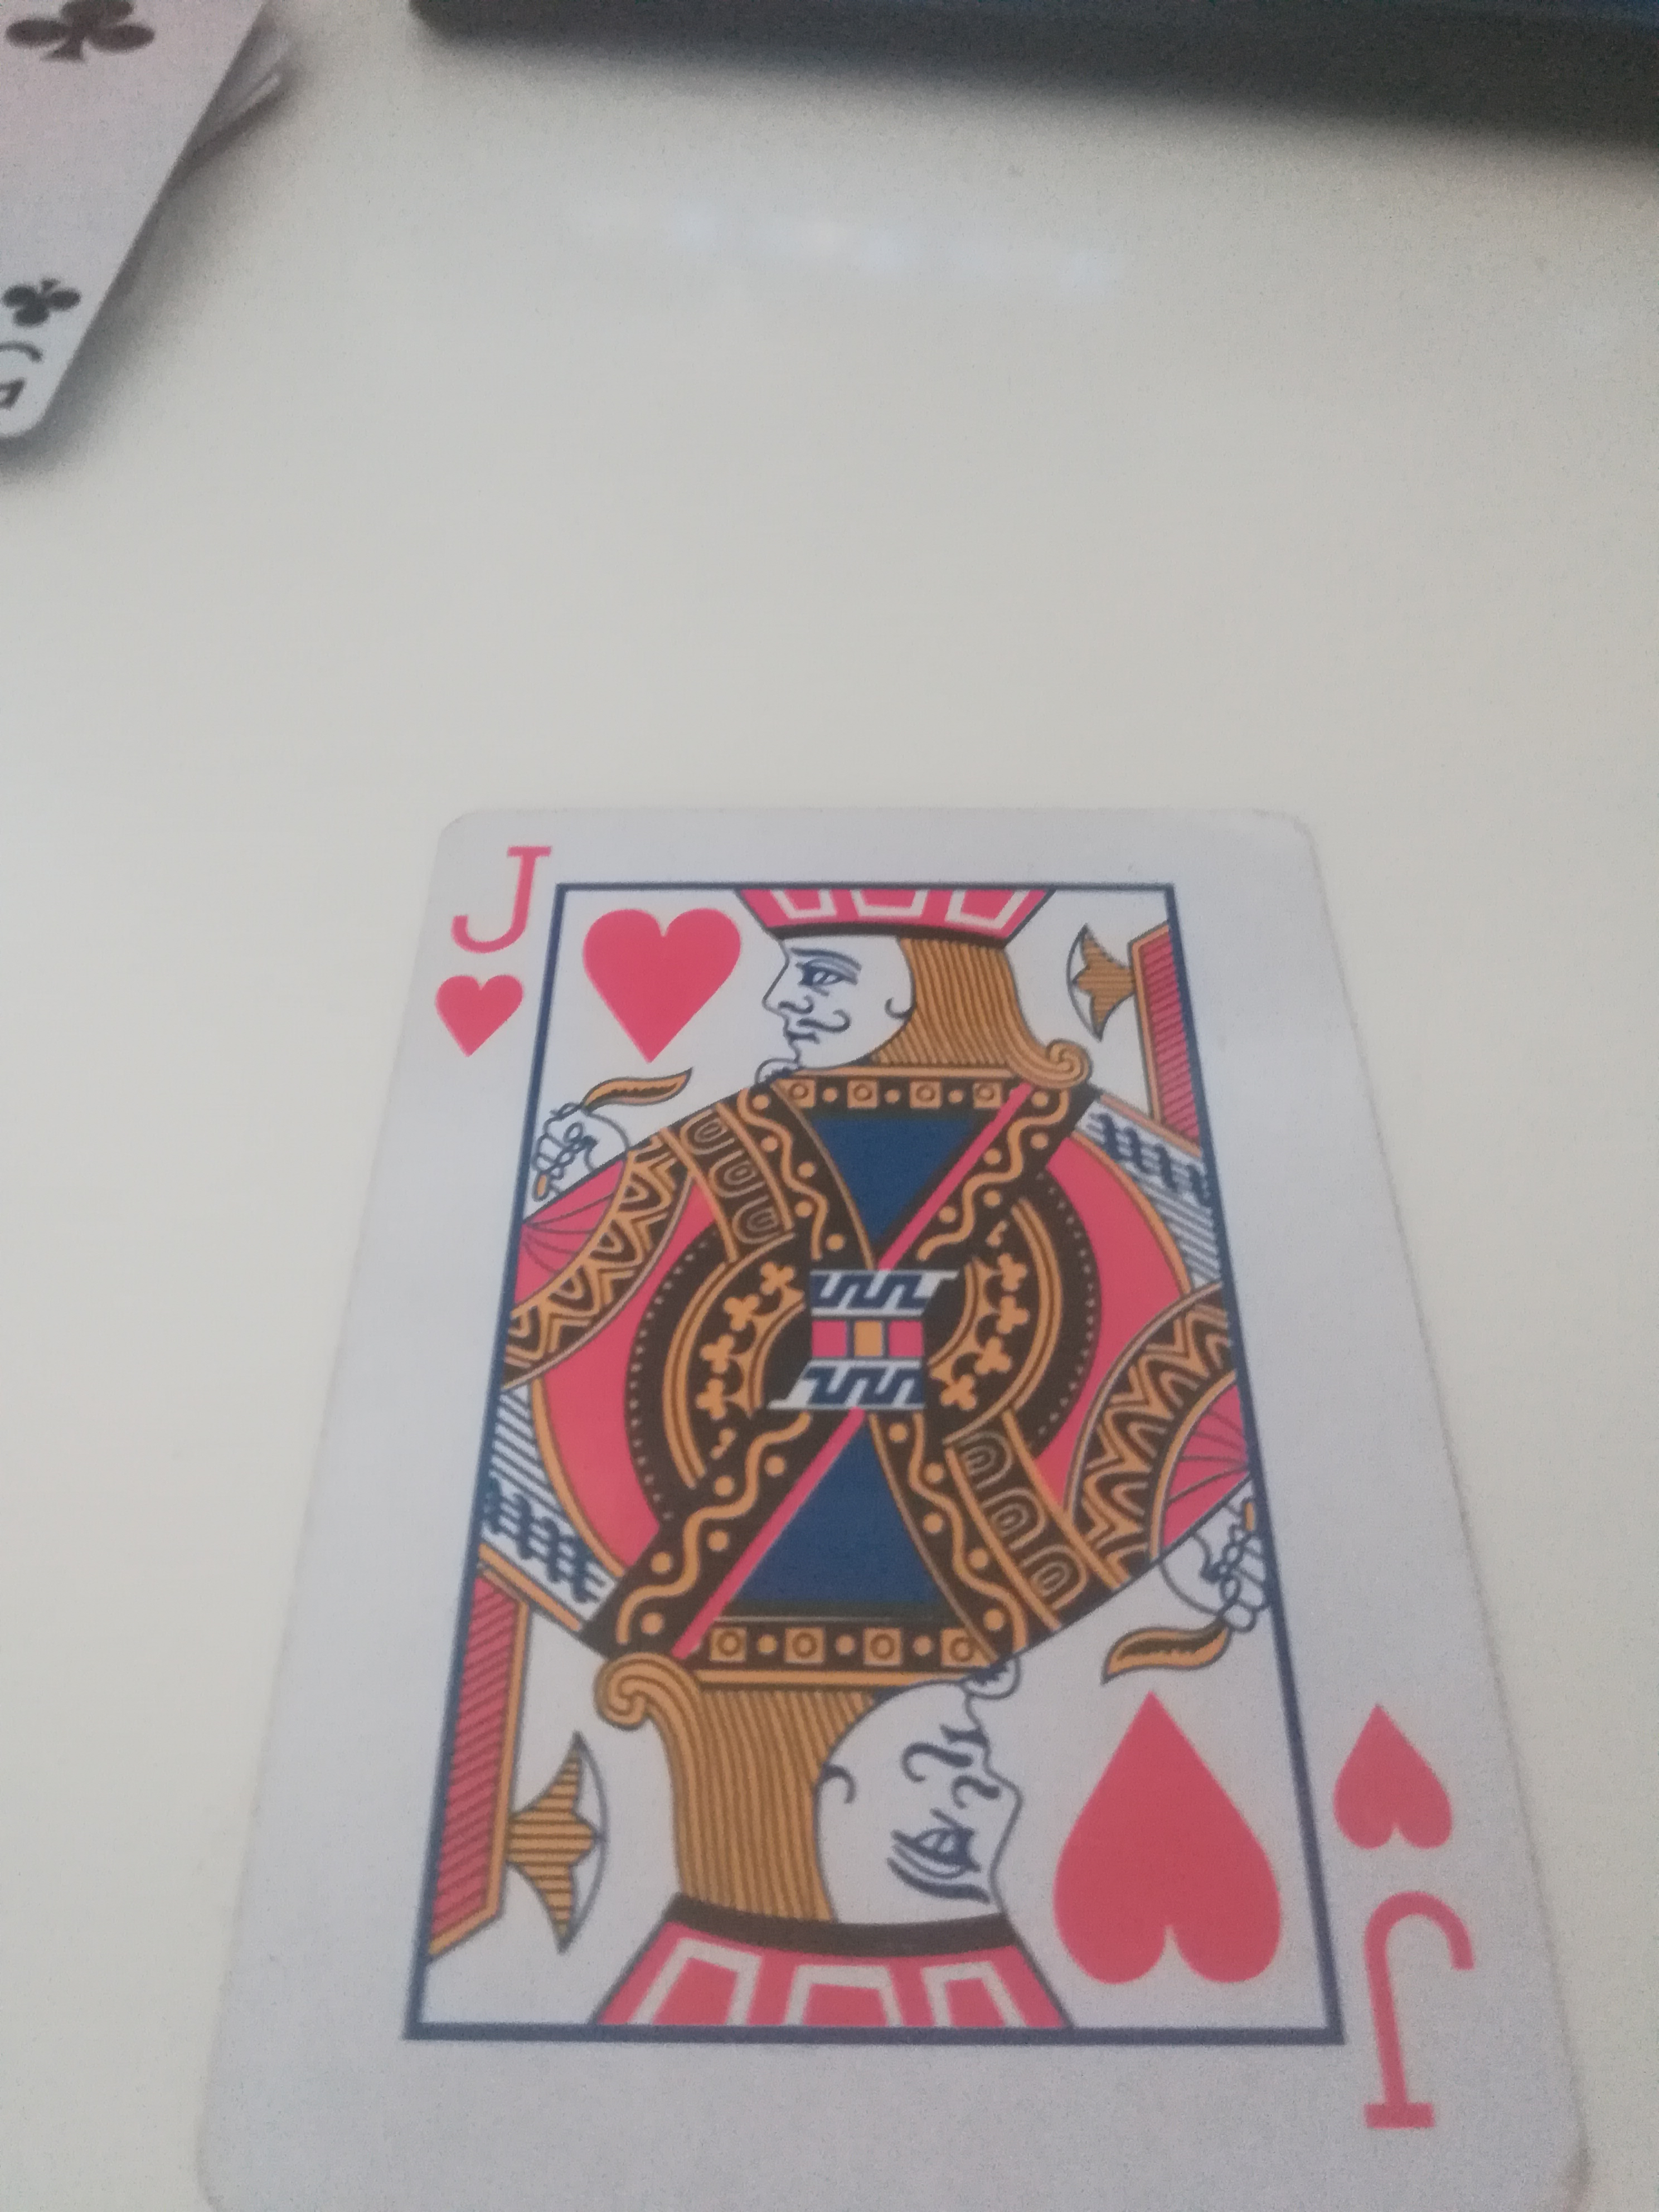JH: (200, 786, 1570, 2205)
